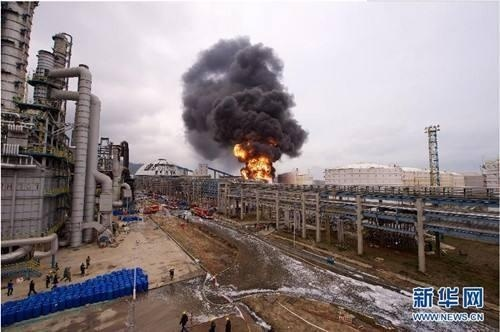fire: (235, 140, 274, 181)
